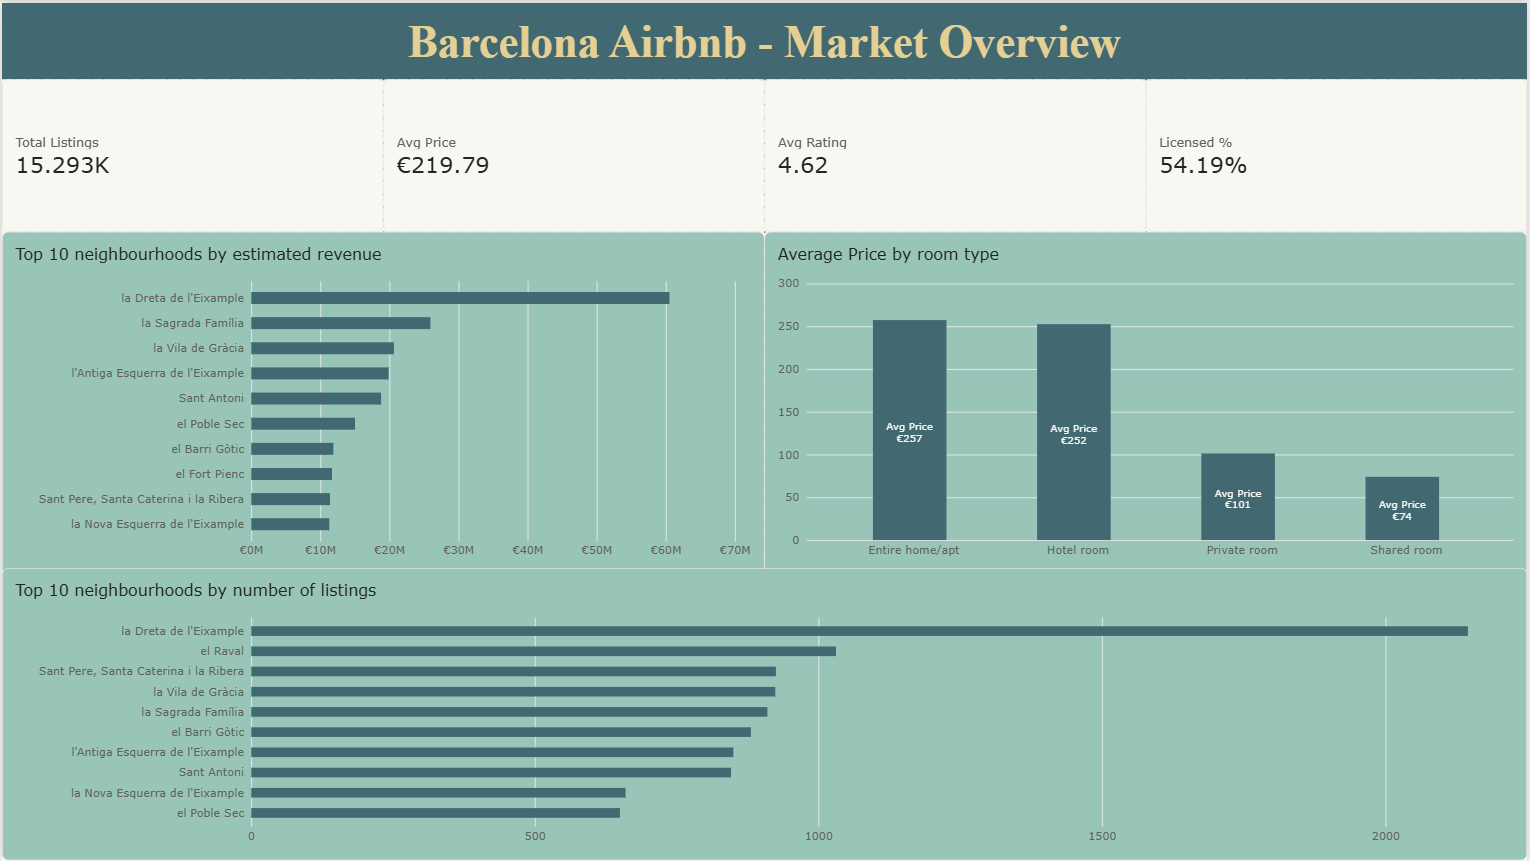

What the dashboard file says about the page in this screenshot:
{"tool":"powerbi","page":{"name":"Market Overview","canvas":[1920,1080],"ordinal":0},"visuals":[{"type":"textbox","box":[0,0,1920,96],"z":0},{"type":"cardVisual","fields":{"Data":["fact_listings.Total Listings"]},"box":[0,96,480,192],"z":1000},{"type":"cardVisual","fields":{"Data":["fact_listings.Avg Price"]},"box":[480,96,480,192],"z":2000},{"type":"cardVisual","fields":{"Data":["fact_listings.Avg Rating"]},"box":[960,96,480,192],"z":3000},{"type":"cardVisual","fields":{"Data":["fact_listings.Licensed %"]},"box":[1440,96,480,192],"z":4000},{"type":"clusteredBarChart","title":"Top 10 neighbourhoods by estimated revenue","fields":{"Category":["dim_neighbourhood.neighbourhood_cleansed"],"Y":["fact_listings.Est Revenue"]},"box":[0,288,960,432],"z":5000},{"type":"clusteredColumnChart","title":"Average Price by room type","fields":{"Category":["fact_listings.room_type"],"Y":["fact_listings.Avg Price"]},"box":[960,288,960,432],"z":6000},{"type":"clusteredBarChart","title":"Top 10 neighbourhoods by number of listings","fields":{"Category":["dim_neighbourhood.neighbourhood_cleansed"],"Y":["fact_listings.Total Listings"]},"box":[0,712,1920,368],"z":7000}]}

Visuals, with their boxes in screenshot pixels (x1, y1, x2, y2), scaled from the page's 1920x1080 canvas onto the 1530x861 screenshot:
textbox: [x1=0, y1=0, x2=1529, y2=77]
cardVisual - fact_listings.Total Listings: [x1=0, y1=77, x2=382, y2=230]
cardVisual - fact_listings.Avg Price: [x1=382, y1=77, x2=765, y2=230]
cardVisual - fact_listings.Avg Rating: [x1=765, y1=77, x2=1148, y2=230]
cardVisual - fact_listings.Licensed %: [x1=1148, y1=77, x2=1529, y2=230]
"Top 10 neighbourhoods by estimated revenue" clusteredBarChart: [x1=0, y1=230, x2=765, y2=574]
"Average Price by room type" clusteredColumnChart: [x1=765, y1=230, x2=1529, y2=574]
"Top 10 neighbourhoods by number of listings" clusteredBarChart: [x1=0, y1=568, x2=1529, y2=860]
